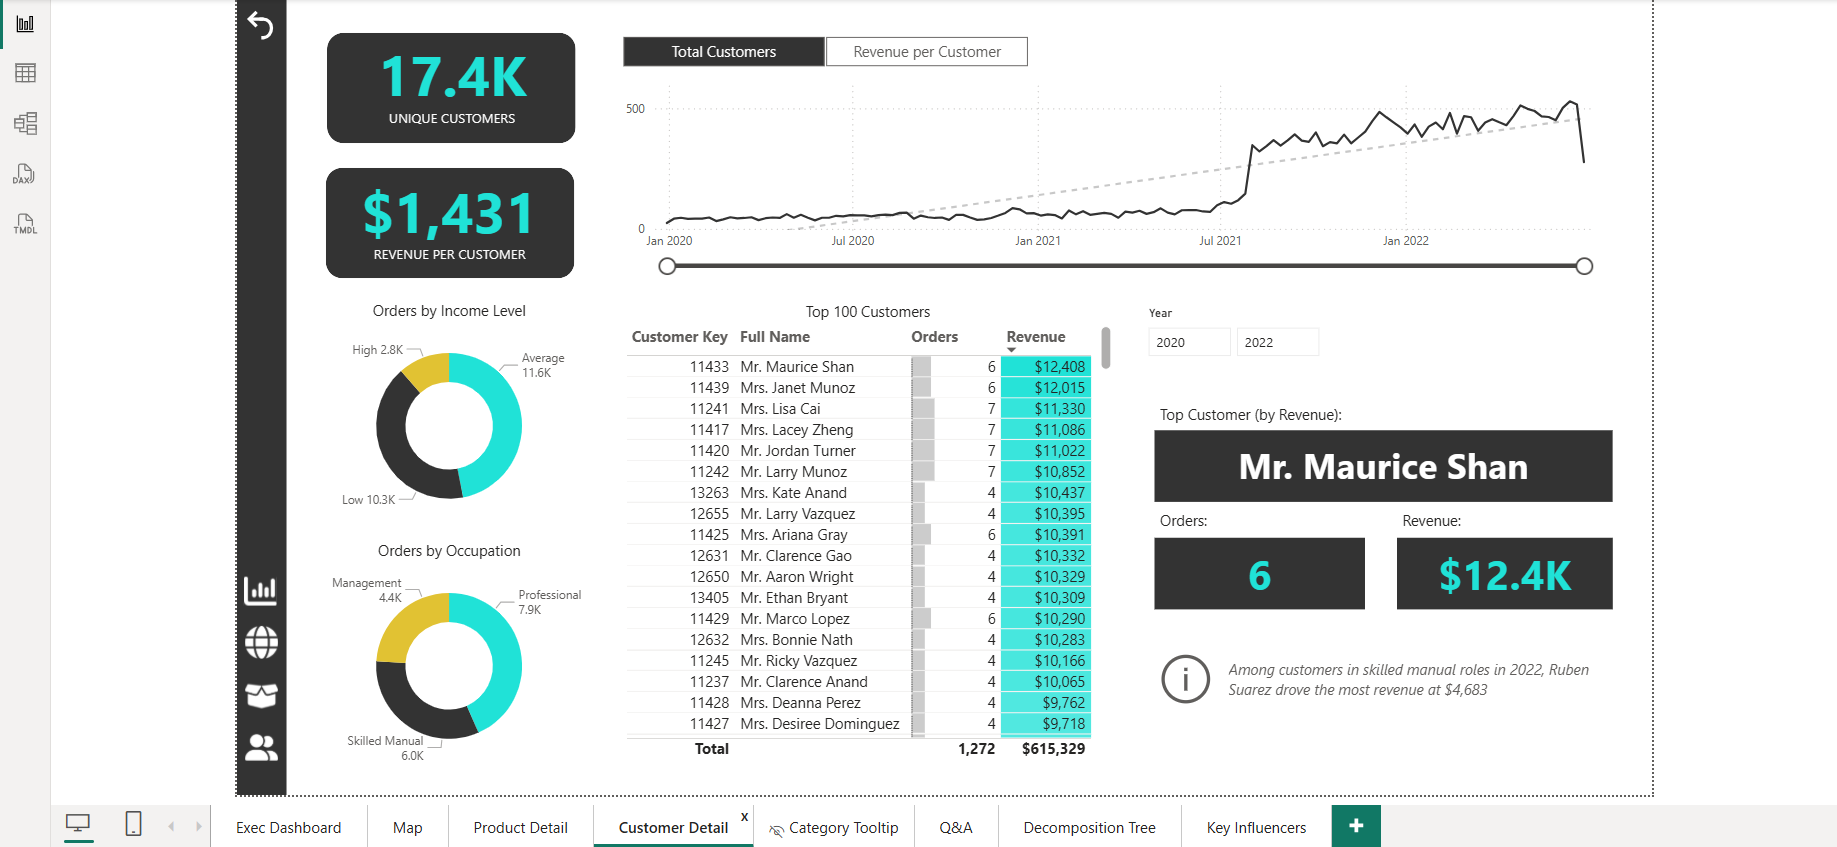

What the dashboard file says about the page in this screenshot:
{"tool":"powerbi","page":{"name":"Customer Detail","canvas":[1280,720],"ordinal":3},"visuals":[{"type":"shape","box":[0,0,45,720],"z":0},{"type":"actionButton","box":[2.5,516.7,45.6,37.8],"z":0,"group":"g1"},{"type":"shape","box":[81.7,30,225,100],"z":1000},{"type":"actionButton","box":[3.3,563.4,45.6,37.8],"z":1000,"group":"g1"},{"type":"shape","box":[80,152.7,225,100],"z":2000},{"type":"actionButton","box":[3.3,611.1,45.6,37.8],"z":2000,"group":"g1"},{"type":"card","fields":{"Values":["Measure Table.Total Customers"]},"box":[66.7,0,256.2,150],"z":3000},{"type":"actionButton","box":[3.3,657.8,45.6,37.8],"z":3000,"group":"g1"},{"type":"card","fields":{"Values":["Measure Table.Average Revenue per Customer"]},"box":[65,122.7,256.2,150],"z":4000},{"type":"lineChart","fields":{"Category":["Calendar Lookup.Date Hierarchy.Year","Calendar Lookup.Date Hierarchy.Start of Month","Calendar Lookup.Date Hierarchy.Start of Week","Calendar Lookup.Date Hierarchy.Date"],"Y":["Measure Table.Total Customers"]},"box":[345.9,63.3,898.6,188.8],"z":5000},{"type":"donutChart","title":"Orders by Income Level","fields":{"Category":["Customer Lookup.Income Level"],"Y":["Measure Table.Total Orders"]},"box":[63.8,272.5,257.5,210],"z":6000},{"type":"donutChart","title":"Orders by Occupation","fields":{"Category":["Customer Lookup.Occupation"],"Y":["Measure Table.Total Orders"]},"box":[63.8,490,257.5,210],"z":7000},{"type":"tableEx","title":"Top 100 Customers","fields":{"Values":["Customer Lookup.CustomerKey","Customer Lookup.Full Name","Measure Table.Total Orders","Measure Table.Total Revenue"]},"box":[346,273.6,449.4,418.4],"z":8000},{"type":"card","fields":{"Values":["Min(Customer Lookup.Full Name)"]},"box":[829.6,390.1,414.5,65.1],"z":9000},{"type":"card","fields":{"Values":["Measure Table.Total Orders"]},"box":[829.6,487,190.7,65.1],"z":10000},{"type":"card","fields":{"Values":["Measure Table.Total Revenue"]},"box":[1048.7,487,195.4,65.1],"z":11000},{"type":"textbox","box":[829.6,361.7,190.7,37.9],"z":12000},{"type":"textbox","box":[829.6,458.4,190.7,37.9],"z":13000},{"type":"textbox","box":[1048.7,458.4,190.7,37.9],"z":14000},{"type":"slicer","fields":{"Values":["Calendar Lookup.Year"]},"box":[811.6,272.4,432.9,80.3],"z":15000},{"type":"actionButton","box":[830,586.7,410,56.7],"z":16000},{"type":"actionButton","box":[3.3,5.6,35.6,35.6],"z":17000},{"type":"group","id":"g1","title":"Navigation Buttons","box":[2.5,516.7,46.4,178.9],"z":18000},{"type":"slicer","fields":{"Values":["Customer Metric Selection.Customer Metric Selection"]},"box":[323.3,27.1,415.9,36.2],"z":19000}]}

Visuals, with their boxes on the page's 1280x720 design canvas (x1, y1, x2, y2). These are canvas units, not pixel positions in the 1837x847 screenshot, which may show the page scaled, cropped or inside an application window:
shape: region(0, 0, 45, 720)
actionButton: region(2, 517, 48, 554)
shape: region(82, 30, 307, 130)
actionButton: region(3, 563, 49, 601)
shape: region(80, 153, 305, 253)
actionButton: region(3, 611, 49, 649)
card - Measure Table.Total Customers: region(67, 0, 323, 150)
actionButton: region(3, 658, 49, 696)
card - Measure Table.Average Revenue per Customer: region(65, 123, 321, 273)
lineChart - Calendar Lookup.Date Hierarchy.Year x Calendar Lookup.Date Hierarchy.Start of Month: region(346, 63, 1244, 252)
"Orders by Income Level" donutChart: region(64, 272, 321, 482)
"Orders by Occupation" donutChart: region(64, 490, 321, 700)
"Top 100 Customers" tableEx: region(346, 274, 795, 692)
card - Min(Customer Lookup.Full Name): region(830, 390, 1244, 455)
card - Measure Table.Total Orders: region(830, 487, 1020, 552)
card - Measure Table.Total Revenue: region(1049, 487, 1244, 552)
textbox: region(830, 362, 1020, 400)
textbox: region(830, 458, 1020, 496)
textbox: region(1049, 458, 1239, 496)
slicer - Calendar Lookup.Year: region(812, 272, 1244, 353)
actionButton: region(830, 587, 1240, 643)
actionButton: region(3, 6, 39, 41)
"Navigation Buttons" group: region(2, 517, 49, 696)
slicer - Customer Metric Selection.Customer Metric Selection: region(323, 27, 739, 63)
